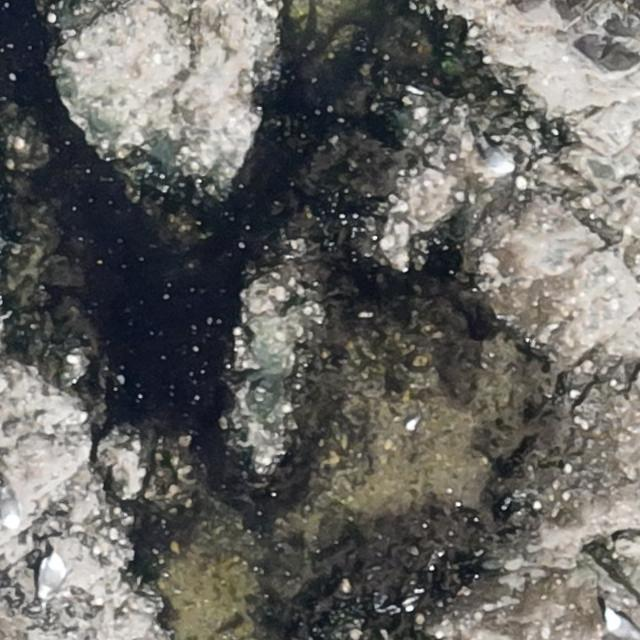umineko: (478, 134, 517, 174), (610, 614, 636, 637)
